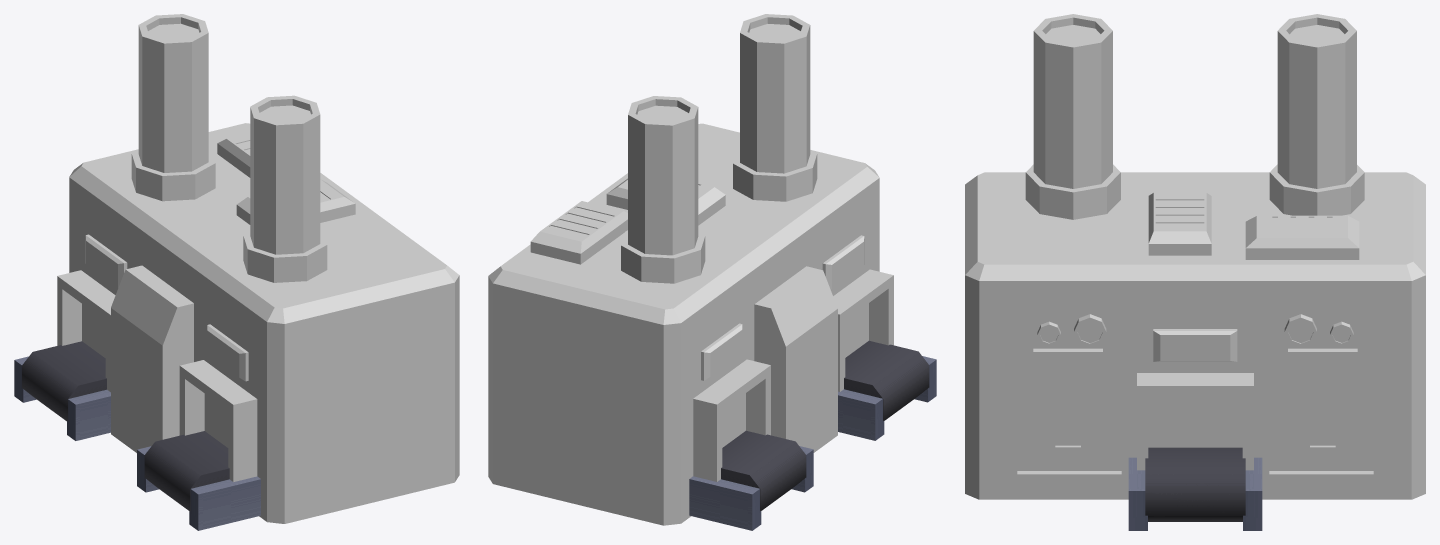
The model's file is SteelRefinery.glb.
3 renders of one model, left to right at view 1: azimuth 30°, elevation 25°; view 2: azimuth 150°, elevation 25°; view 3: azimuth 270°, elevation 25°, orthographic. The views are drawn at different scales.
Parts seen in each view (by area): view 1: Cube.004, Cylinder, Cylinder.001, Cube.011, Cube.009, conveyor.003, conveyor.002, Cube.008, Cube.010, Cube.007, Cube.013, Cube.001 (+2 smaller); view 2: Cube.004, Cylinder.001, Cylinder, Cube.011, Cube.008, conveyor.003, conveyor.002, Cube.009, Cube.002, Cube.007, Cube.010, Cube.012 (+2 smaller); view 3: Cube.004, Cylinder.001, Cylinder, Cube, Cube.006, conveyor.001, Cube.002, Cube.001, Cube.014, Cube.005, Cylinder.002, Cylinder.003.
Part boxes in pixels (<box>): Cube.004: <box>69,123,459,523</box>; Cylinder: <box>131,14,215,201</box>; Cylinder.001: <box>243,95,327,282</box>; Cube.011: <box>111,265,193,452</box>; Cube.009: <box>179,360,257,481</box>; conveyor.003: <box>144,431,229,510</box>; conveyor.002: <box>22,341,106,421</box>; Cube.008: <box>57,270,115,392</box>; Cube.010: <box>137,446,260,530</box>; Cube.007: <box>14,356,110,440</box>; Cube.013: <box>207,324,248,381</box>; Cube.001: <box>236,179,355,224</box>; Cube.004: <box>488,123,879,525</box>; Cylinder.001: <box>733,14,817,201</box>; Cylinder: <box>621,96,705,283</box>; Cube.011: <box>754,266,837,452</box>; Cube.008: <box>693,359,770,481</box>; conveyor.003: <box>844,340,929,420</box>; conveyor.002: <box>721,430,806,510</box>; Cube.009: <box>833,269,893,391</box>; Cube.002: <box>530,201,627,264</box>; Cube.007: <box>689,446,813,530</box>; Cube.010: <box>838,356,936,440</box>; Cube.012: <box>701,323,742,380</box>; Cube.004: <box>965,172,1425,499</box>; Cylinder.001: <box>1025,14,1120,219</box>; Cylinder: <box>1269,14,1364,215</box>; Cube: <box>1033,348,1357,457</box>; Cube.006: <box>1137,373,1253,470</box>; conveyor.001: <box>1145,447,1245,521</box>; Cube.002: <box>1245,215,1359,259</box>; Cube.001: <box>1148,192,1211,255</box>; Cube.014: <box>1153,329,1237,361</box>; Cube.005: <box>1128,457,1262,530</box>; Cylinder.002: <box>1074,314,1316,346</box>; Cylinder.003: <box>1037,321,1353,345</box>.
Bounding box in the file's own units: 3 × 3.29 × 3.44.
Materials: 3 (3 with a texture image).
